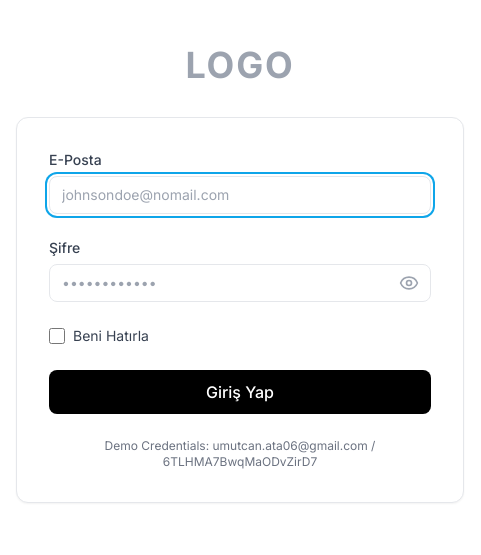
Test: LoginPage › Input Validation › should show error when submitting empty form
Click the button "Giriş Yap" at (240,392), box [49,370,431,414]
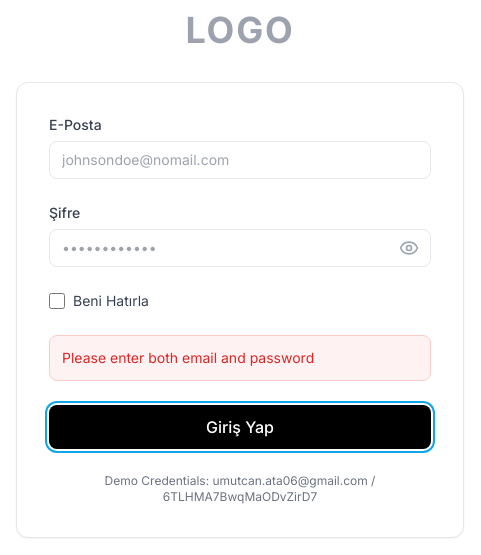
Result: the text "Please enter both email and password" is shown at [62,349,314,366]
